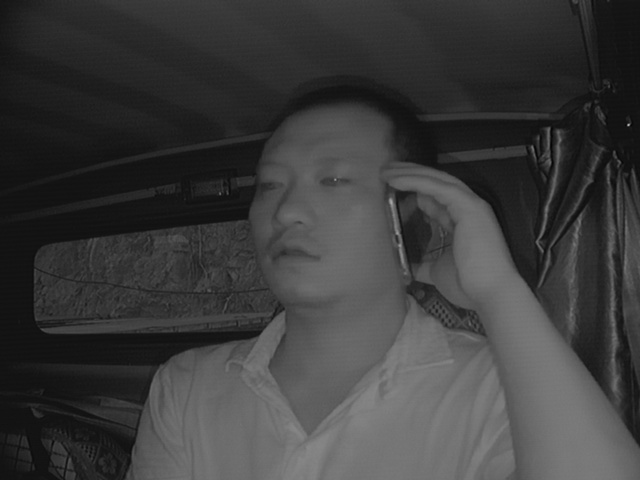hand: (377, 156, 490, 314)
